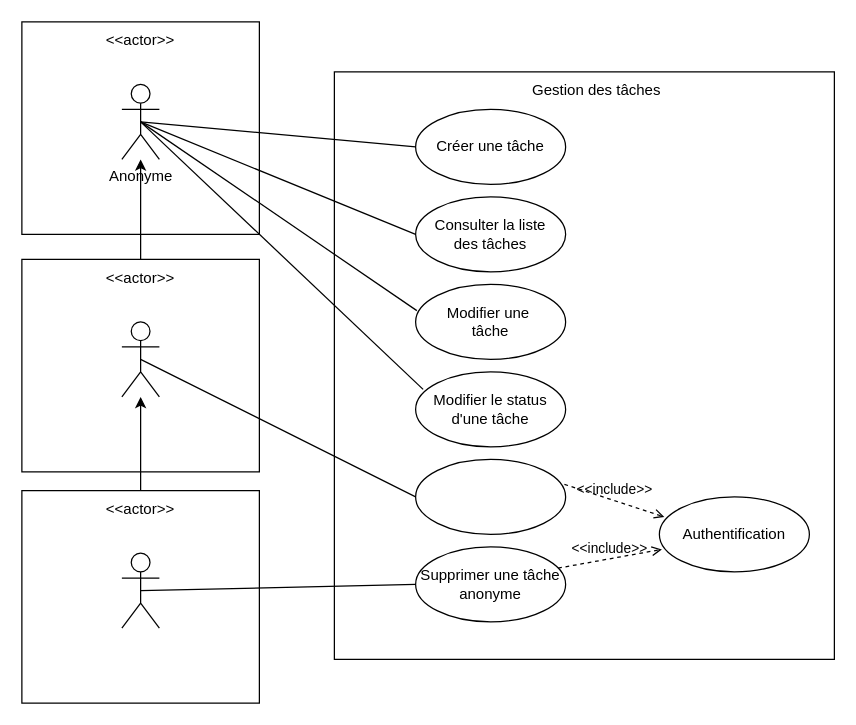
This 856x725 diagram has some shape labels left out. The shapes that lost their labels are listed below. From the top down, each one's centre as x and y in pixels, then its label:
the point at 140,359: Utilisateur
the point at 490,496: Supprimer ses tâches
the point at 140,590: Administrateur
